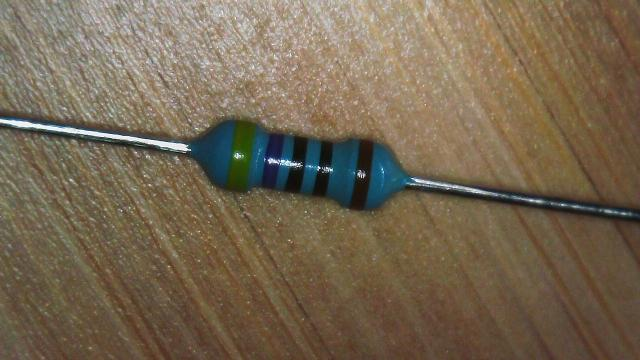black: (284, 136, 308, 192), (312, 142, 333, 195)
brown: (350, 140, 373, 210)
resistor: (184, 92, 413, 227)
violet: (261, 134, 284, 188)
yellow: (226, 121, 255, 190)
